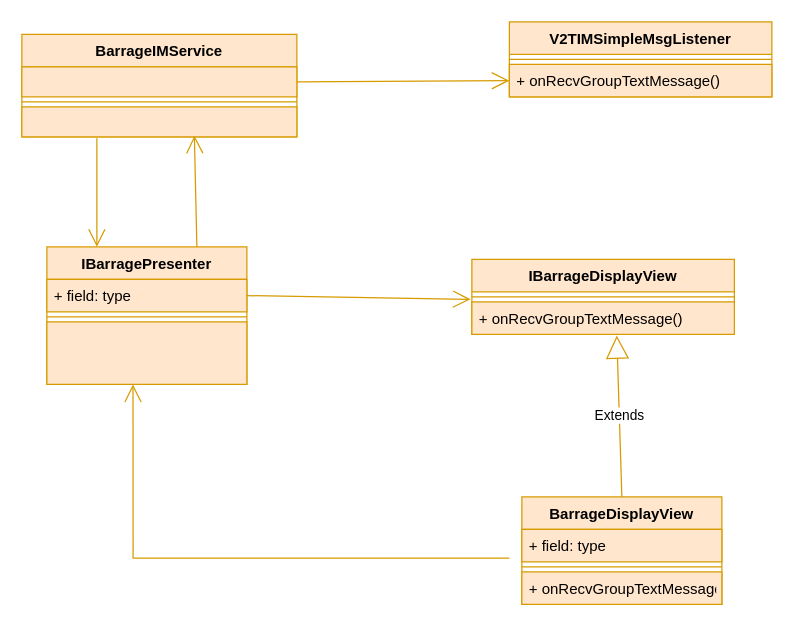
This 794x630 diagram has some shape labels left out. The shapes that lost their labels are listed below. From the top down, each one's centre as x and y in pixels, then its label:
At [159,81]: "+ V2TIMSimpleMsgListener".
At [159,121]: "+ sendBarrage()".
At [146,352]: "+ sendBarrage() + receiveBarrage()".
